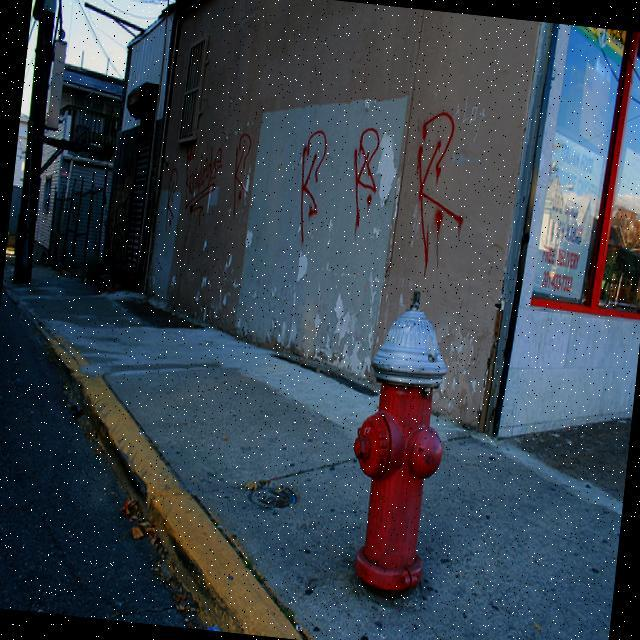fire_hydrant: (336, 284, 462, 600)
